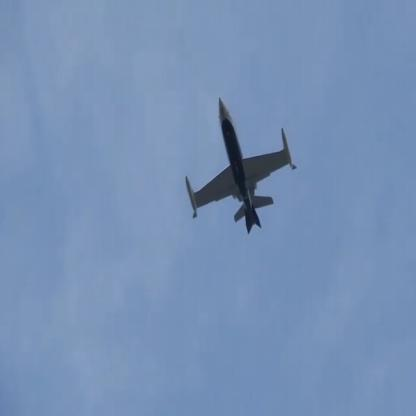CIV_Plane: (183, 98, 300, 235)
